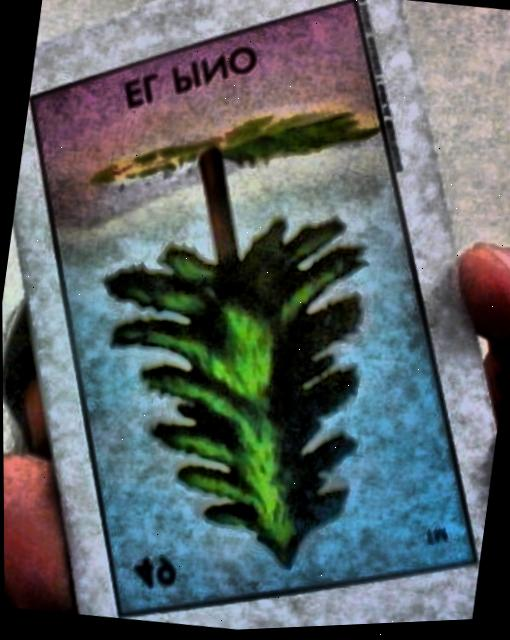El Pino: (36, 7, 470, 612)
